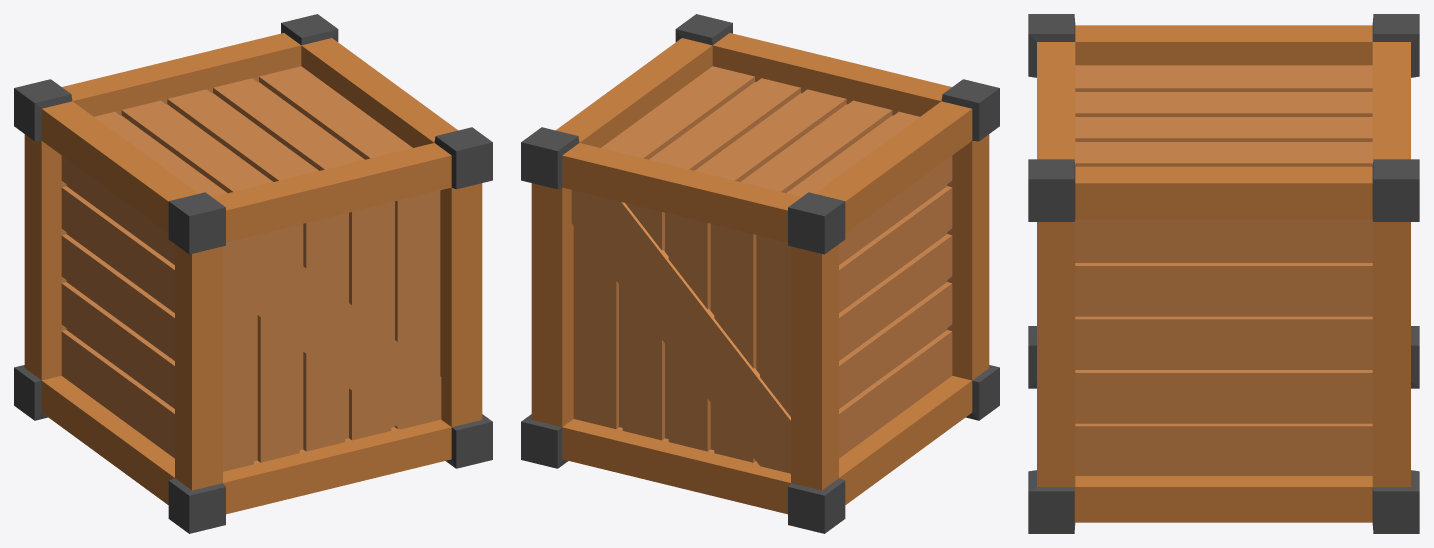
File: crate.glb
3 renders of one model, left to right at view 1: azimuth 30°, elevation 25°; view 2: azimuth 150°, elevation 25°; view 3: azimuth 270°, elevation 25°, orthographic. The views are drawn at different scales.
Parts seen in each view (by area): view 1: Cube.001, Cube; view 2: Cube.001, Cube; view 3: Cube.001, Cube.
Boxes of the visible parts, <box> form: Cube.001: <box>61,66,441,471</box>; Cube: <box>14,14,492,533</box>; Cube.001: <box>571,66,952,473</box>; Cube: <box>521,14,999,533</box>; Cube.001: <box>1075,65,1372,475</box>; Cube: <box>1028,14,1419,533</box>.
Bounding box in the file's own units: 5.49 × 5.49 × 5.49.
